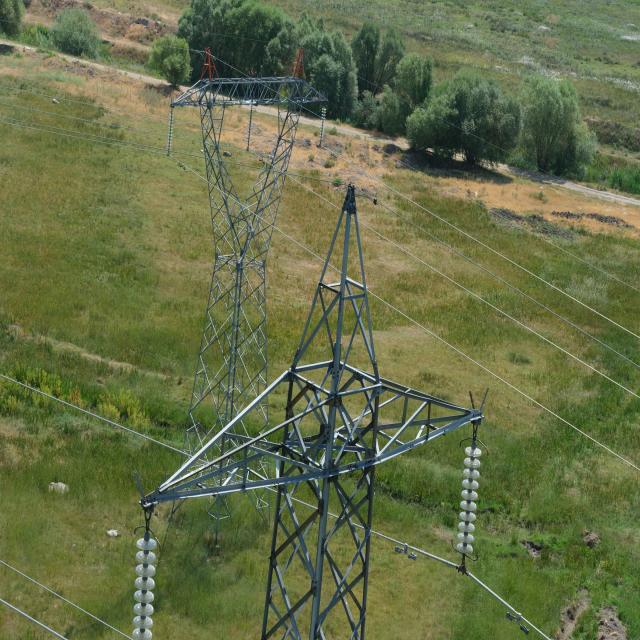direk: (258, 183, 381, 640), (179, 75, 279, 489)
tree: (305, 24, 408, 129), (182, 0, 292, 94), (414, 72, 518, 169), (519, 83, 589, 177)
